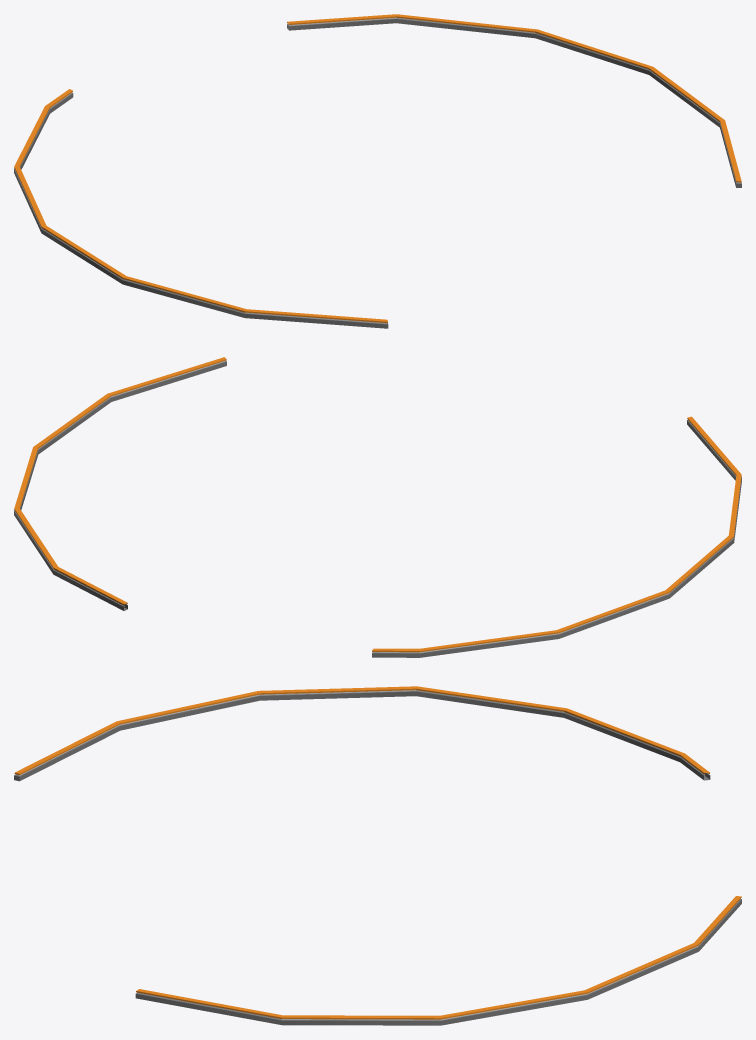
The model's file is PlatRail2.fbx.
The picture shows the model from 3 angles, top to bottom: view 1: azimuth 30°, elevation 25°; view 2: azimuth 150°, elevation 25°; view 3: azimuth 270°, elevation 25°; orthographic projection. The views are drawn at different scales.
Parts seen in each view (by area): view 1: Tube002; view 2: Tube002; view 3: Tube002.
Part boxes in pixels (x1,y1,x2,y2): Tube002: (14,14,741,328); Tube002: (14,357,741,657); Tube002: (14,686,741,1025).
Bounding box in the file's own units: 30.57 × 0.3157 × 28.32.
